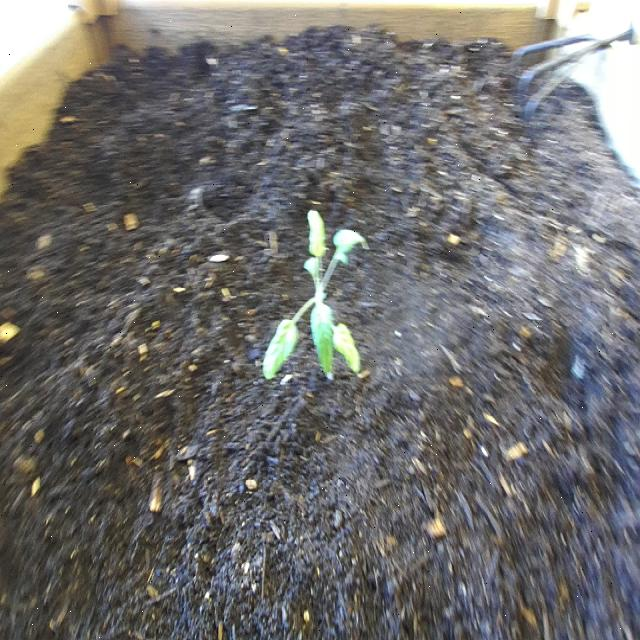Healthy: (254, 186, 376, 399)
